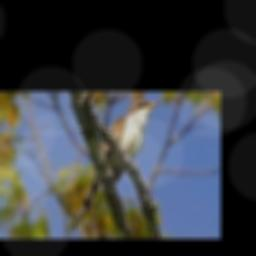Cuckoo: (74, 100, 162, 228)
